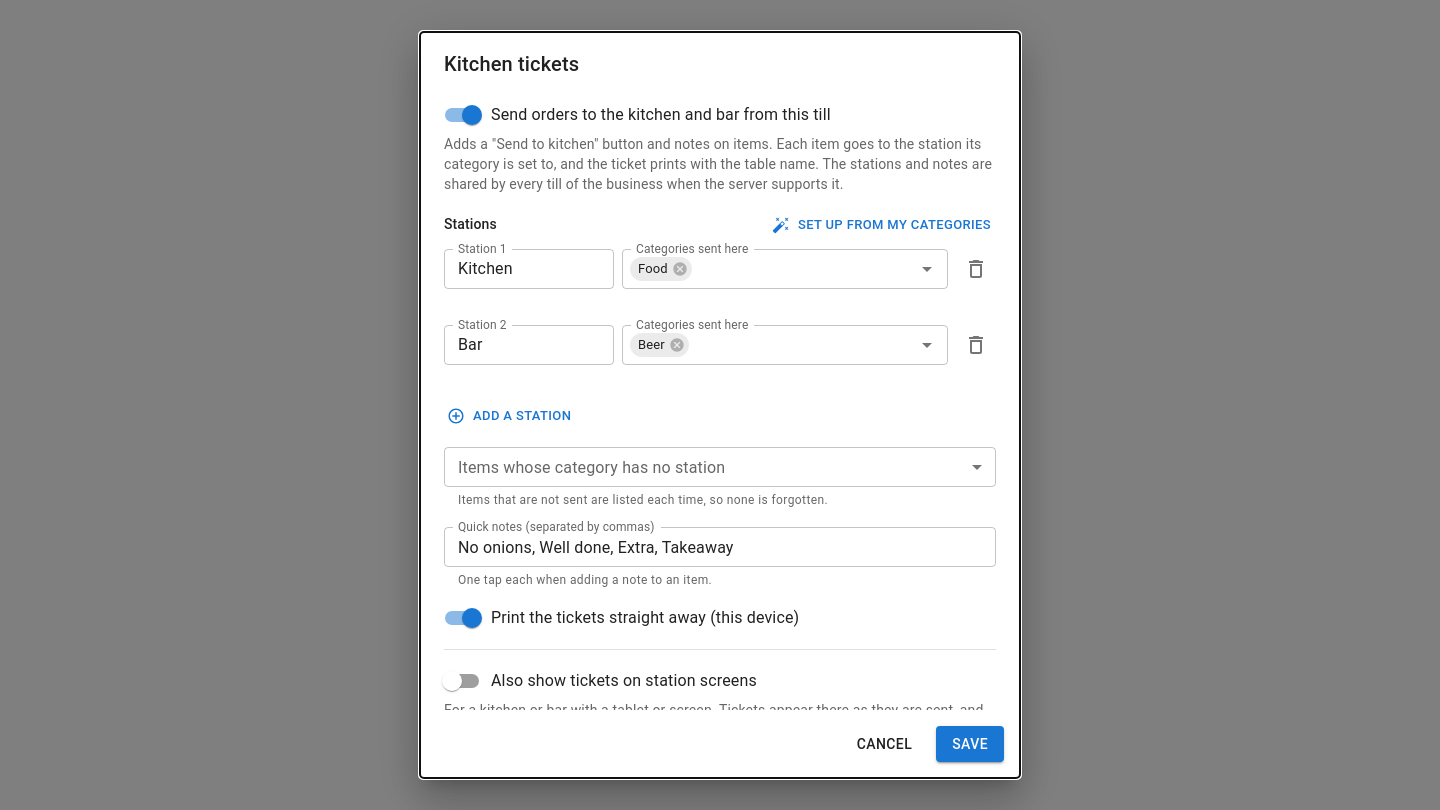
Test: KitchenSettingsDialog › offers a default station for categories that have none, naming the stations
The width and height of the screenshot is (1440, 810).
Press the mouse on the dropdown named "Items whose category has no station" at (720, 467), box [444,447,996,487]
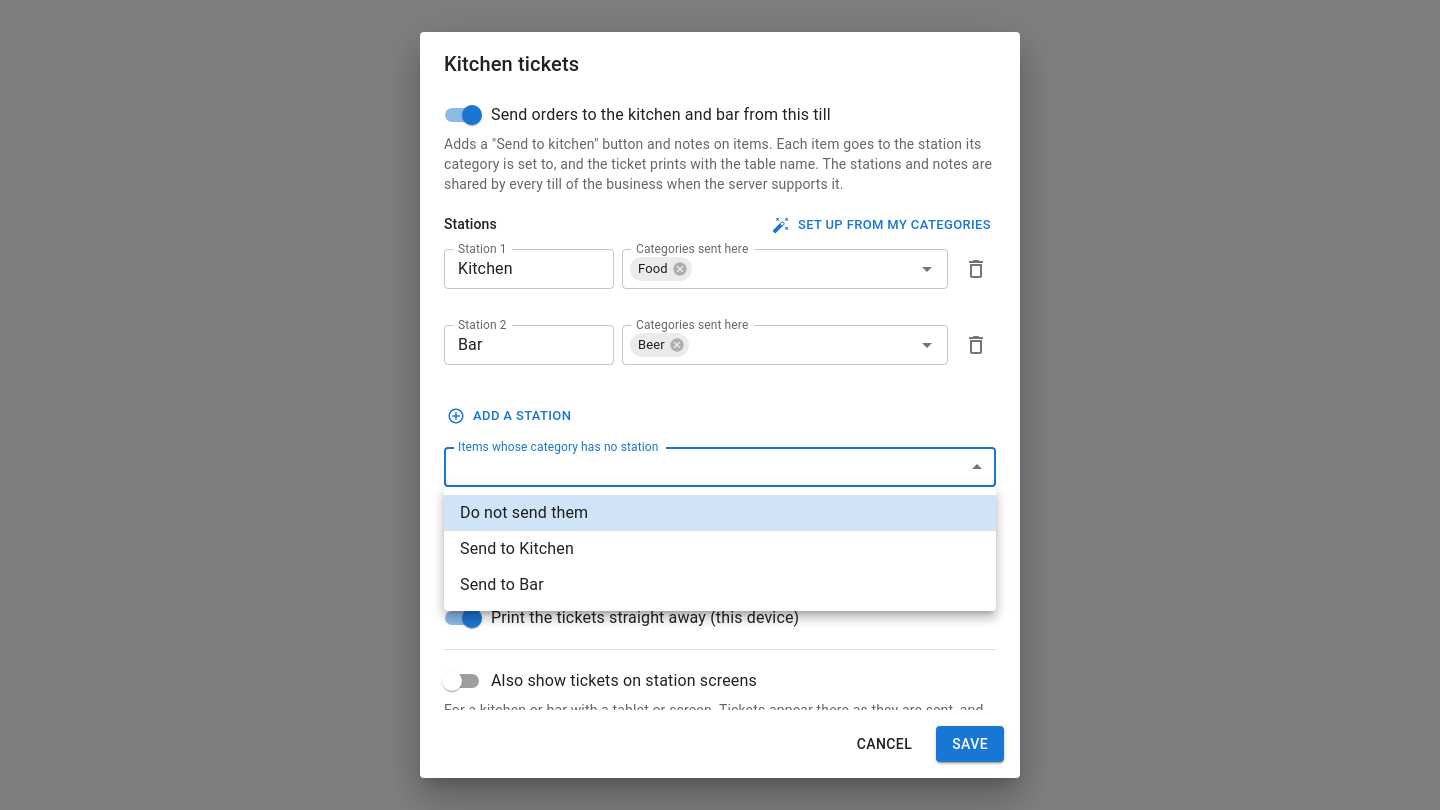
Expected: the option "Do not send them" is shown, [444,495,996,531]
Expected: the option "Send to Bar" is shown, [460,575,544,594]
